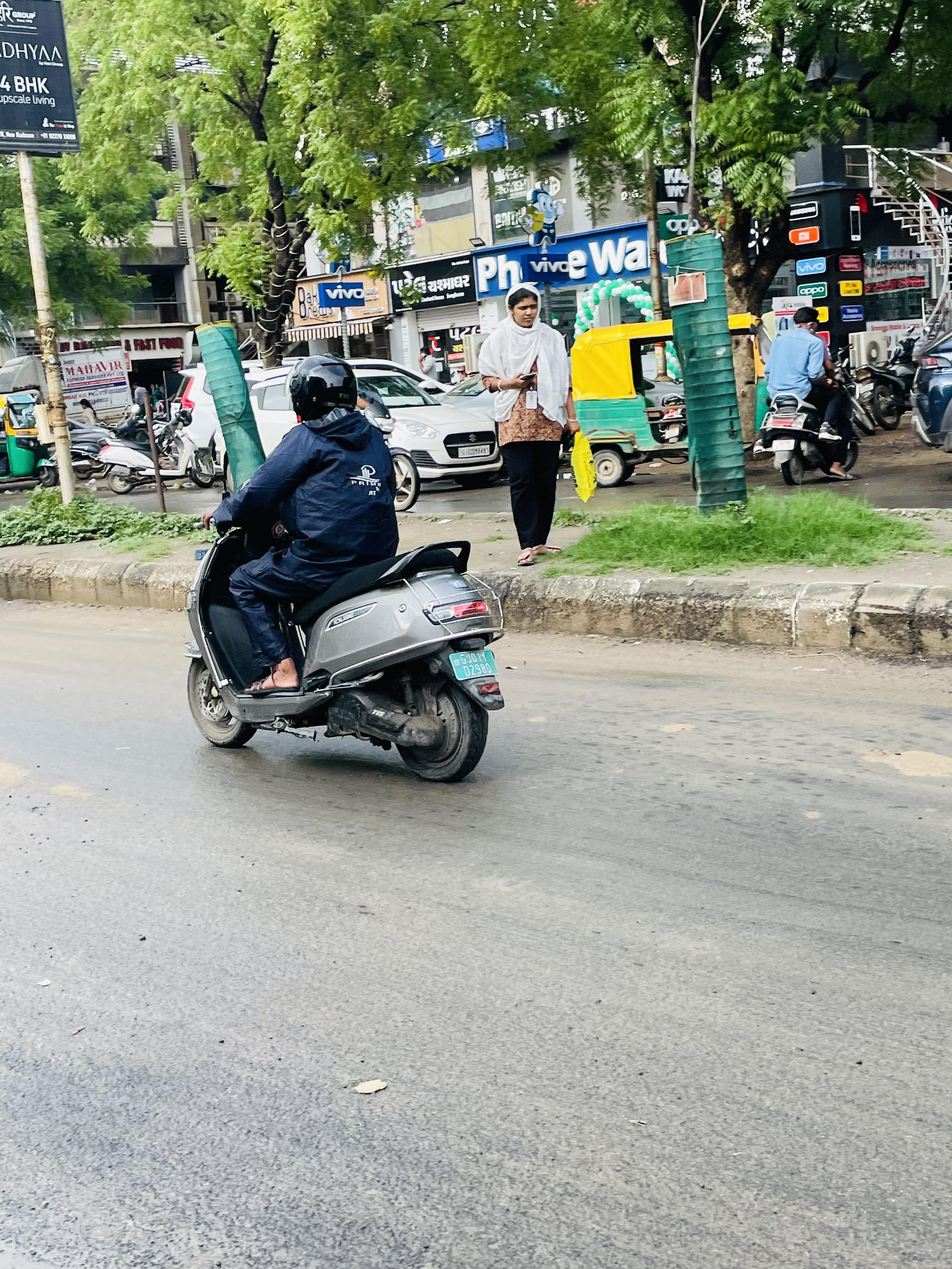BikeWithRider: (167, 341, 518, 794)
Helmet: (279, 346, 367, 436)
